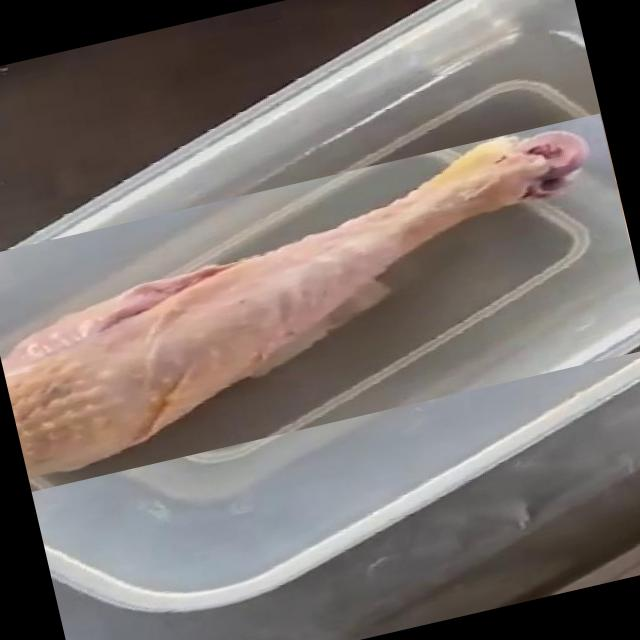chicken: (0, 112, 640, 492)
